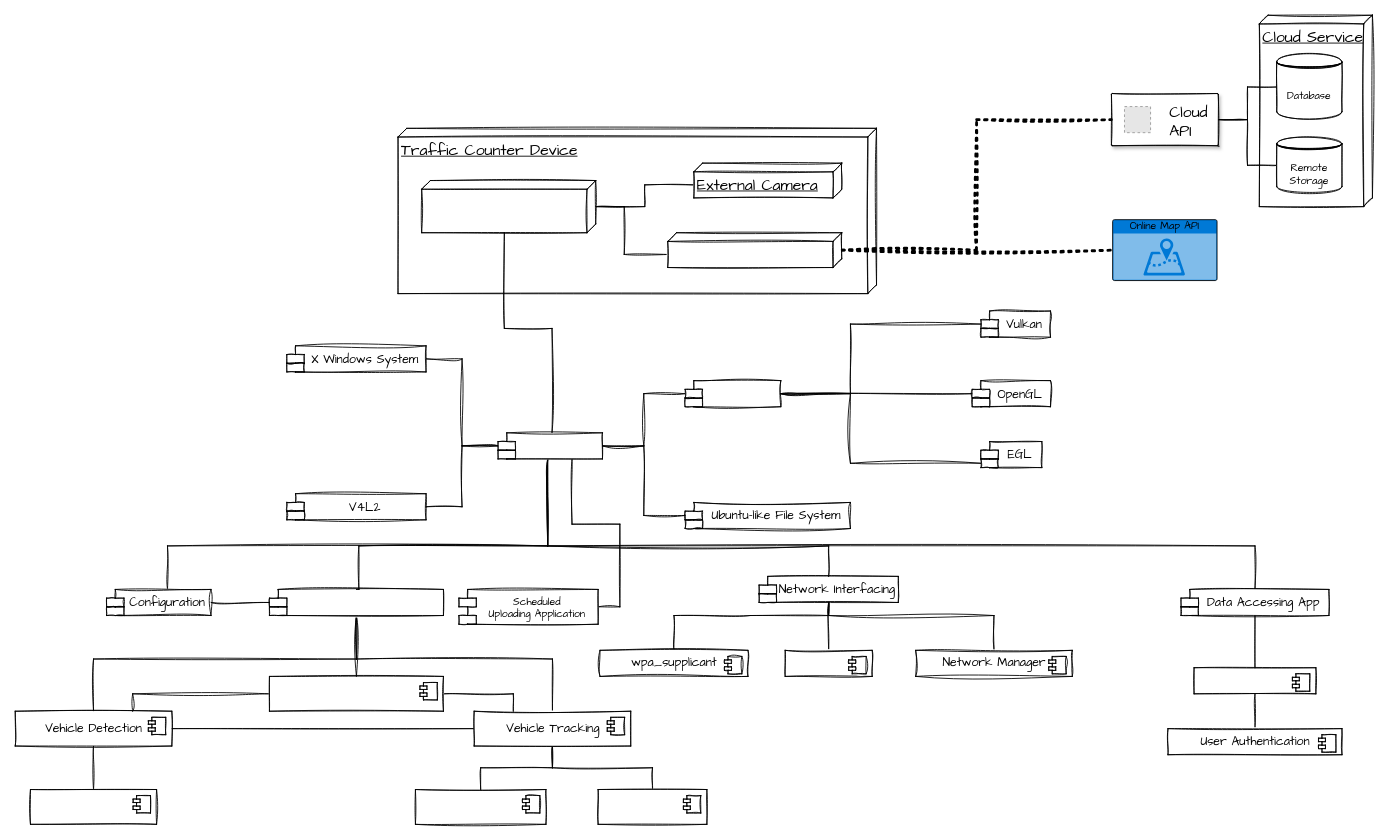
Some shapes in this 1388 by 840 pixel diagram are drawn without their labels. Grey dashed boxes stand in for pictures. Each missing label, with the centre of its shape:
"Core Business Logic" goes at point (356, 693).
"IWD" goes at point (828, 662).
"Linux4Tegra" goes at point (549, 445).
"Login Page" goes at point (1254, 680).
"Media APIs" goes at point (732, 393).
"NVIDIA Jetson Nano Developer Kit" goes at point (508, 206).
"OCSORT" goes at point (652, 806).
"StrongSORT" goes at point (480, 806).
"Traffic Counter App" goes at point (356, 602).
"Wireless NIC Module" goes at point (754, 250).
"YOLOv7" goes at point (93, 806).
